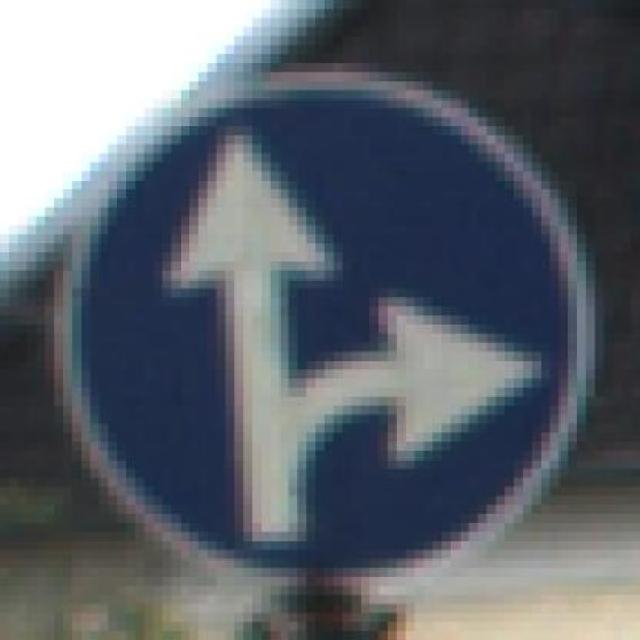Go Straight or Turn Right: (36, 63, 613, 605)
